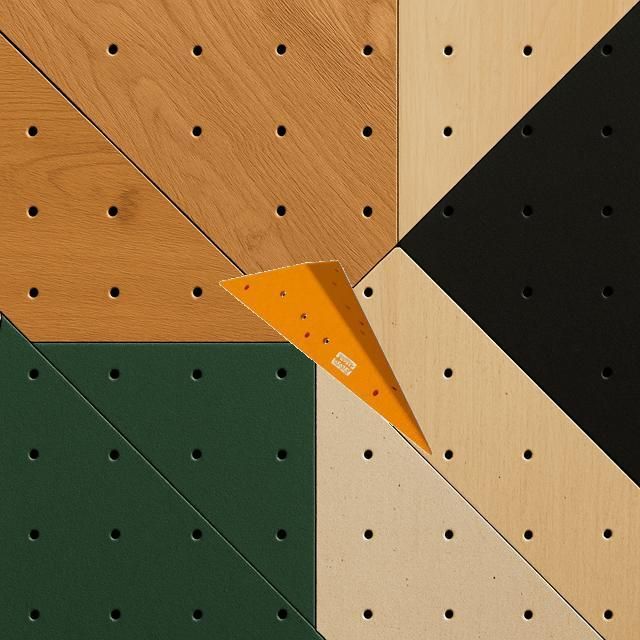Volume: (217, 260, 433, 454)
